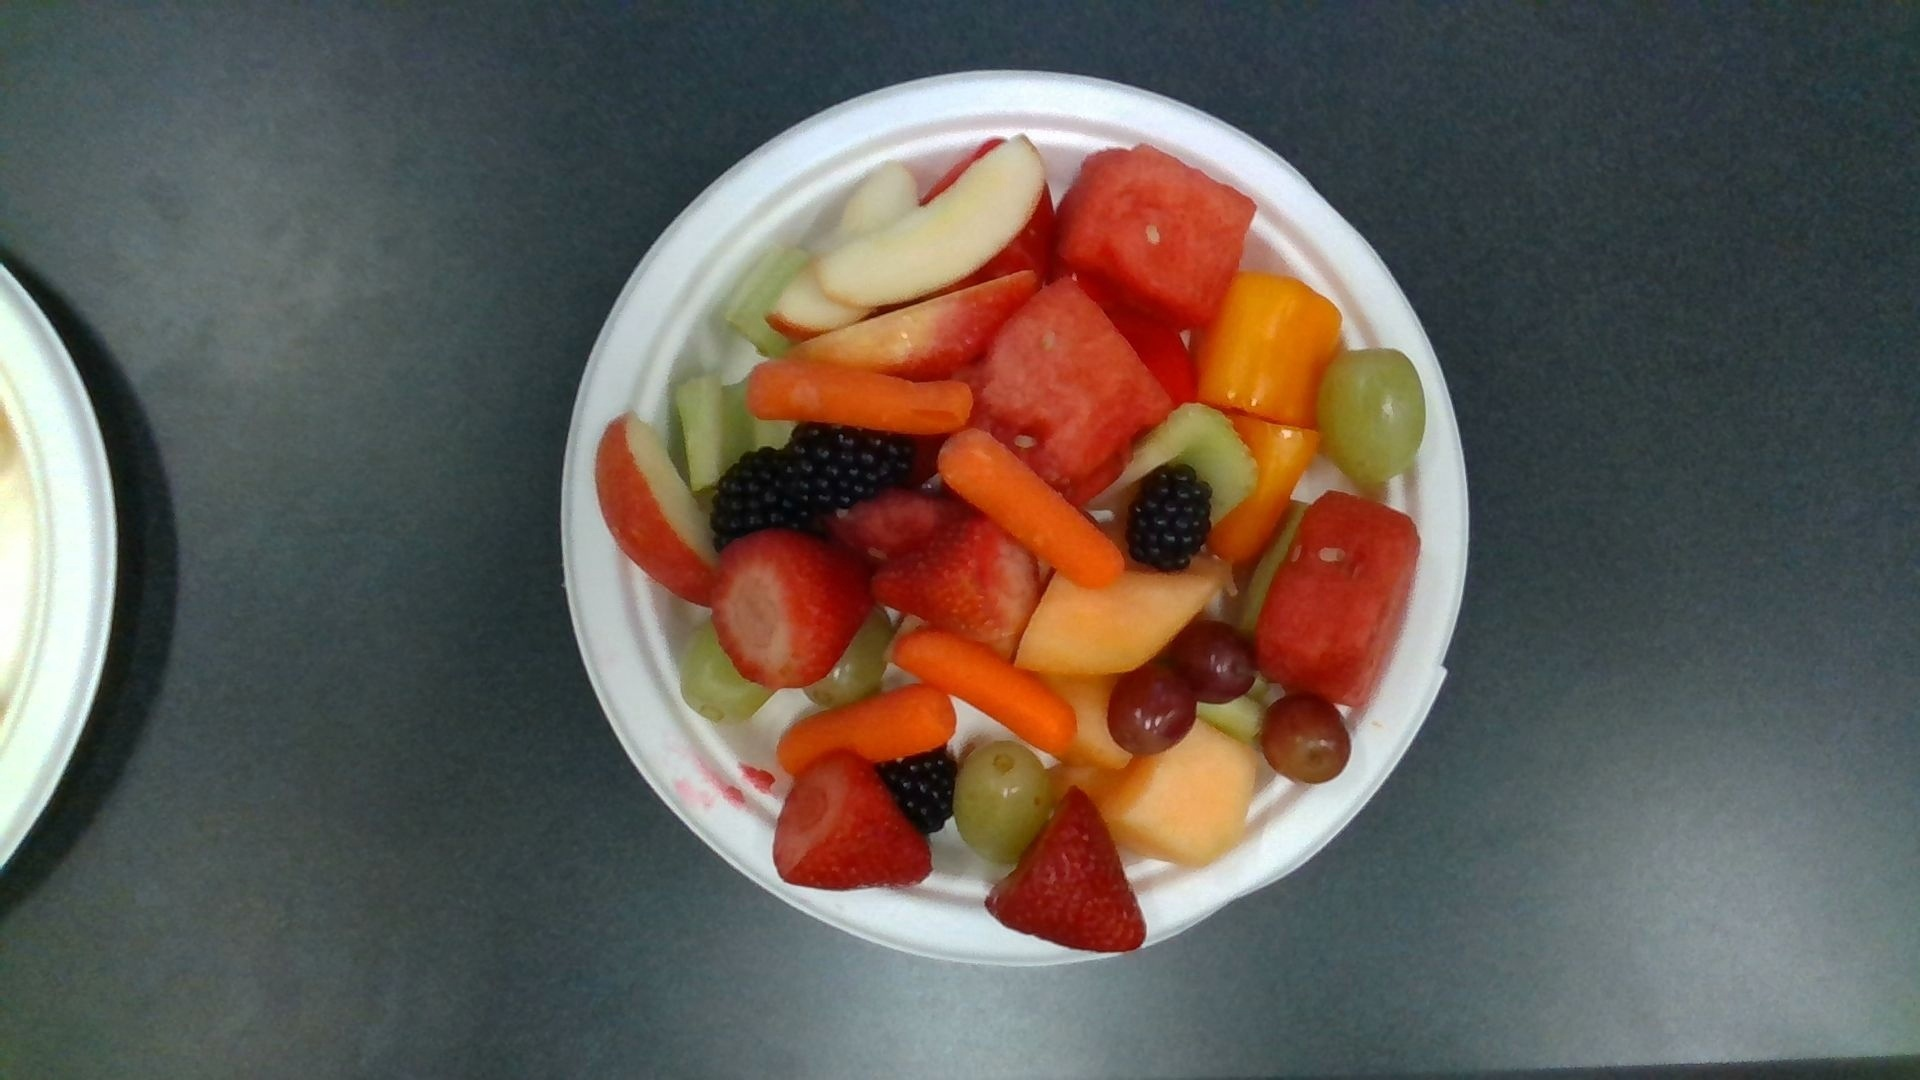apple: (818, 133, 1044, 306), (593, 415, 715, 616)
bell_pepper: (1203, 278, 1342, 421), (1211, 425, 1319, 568)
blackberry: (715, 450, 820, 541), (793, 429, 913, 506), (1139, 465, 1212, 560), (884, 756, 955, 829)
cantalope: (1102, 709, 1257, 868), (1017, 564, 1226, 671)
carrot: (939, 426, 1124, 588), (899, 632, 1079, 758), (750, 356, 975, 431), (781, 684, 949, 775)
grape_green: (1319, 345, 1424, 483), (953, 742, 1054, 861), (670, 626, 774, 723)
grape_purple: (1254, 691, 1352, 786), (1106, 669, 1199, 750), (1179, 625, 1251, 702)
melon: (978, 284, 1170, 501), (1055, 142, 1257, 326), (1255, 491, 1418, 709), (785, 268, 1036, 381)
strawberry: (985, 785, 1145, 961), (709, 533, 876, 684), (774, 757, 928, 893), (880, 521, 1040, 638)
